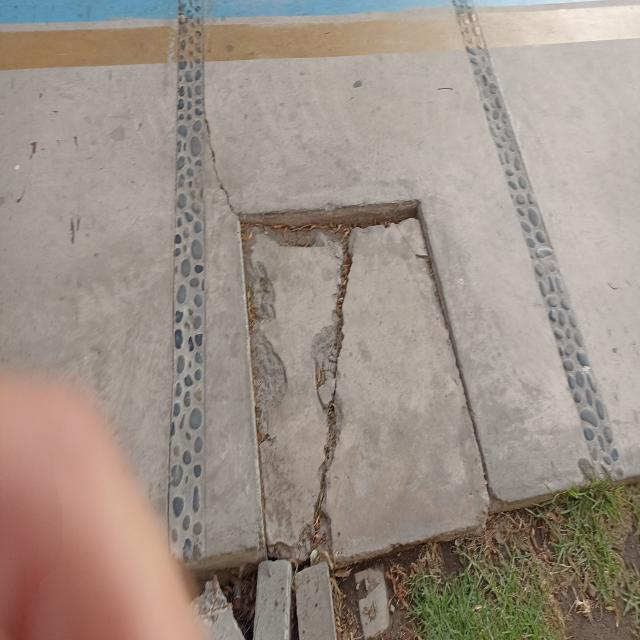hole: (236, 177, 475, 534)
